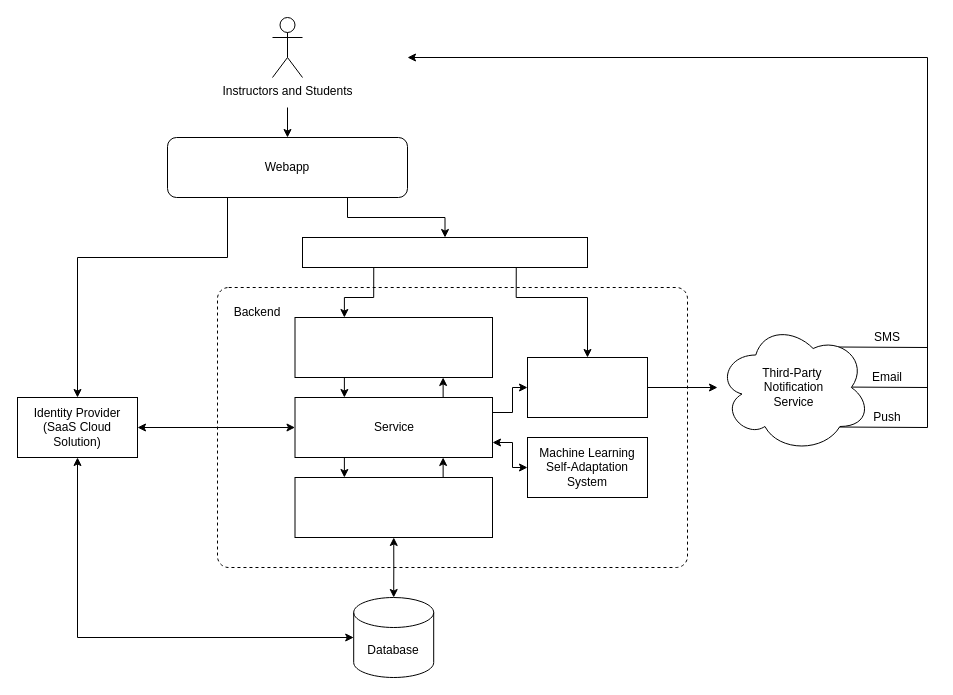
The diagram is 953 pixels wide and 695 high, and some of its shapes have lost their labels. Each missing label, with the box of its shape:
API Gateway: (302, 236, 588, 268)
Controller: (294, 316, 492, 378)
Notifications System: (526, 356, 648, 418)
Persistence: (294, 476, 492, 538)
